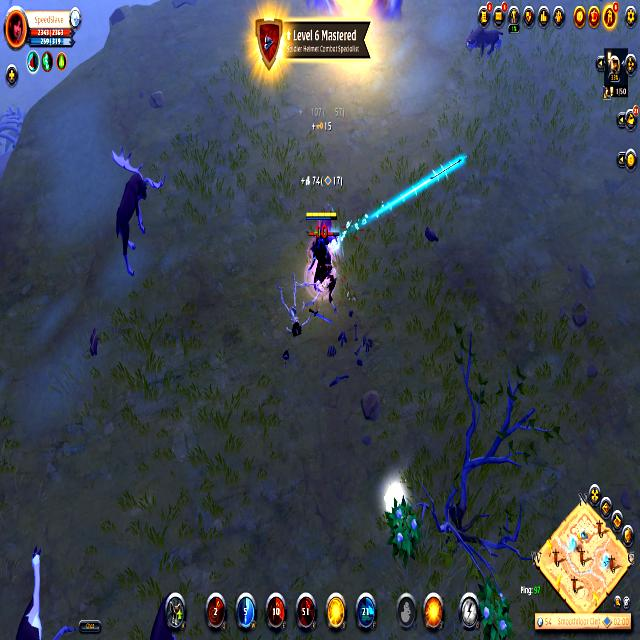hide: (472, 561, 514, 640), (385, 495, 424, 566)
ore: (103, 139, 166, 271), (464, 27, 506, 56)
red: (303, 206, 339, 294)
